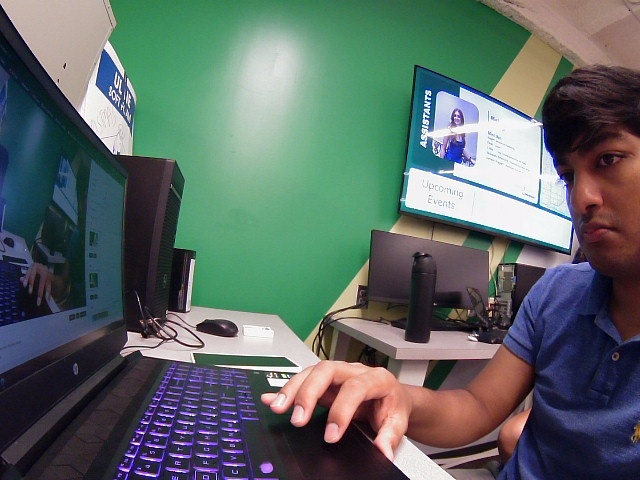bottle: (396, 249, 440, 350)
